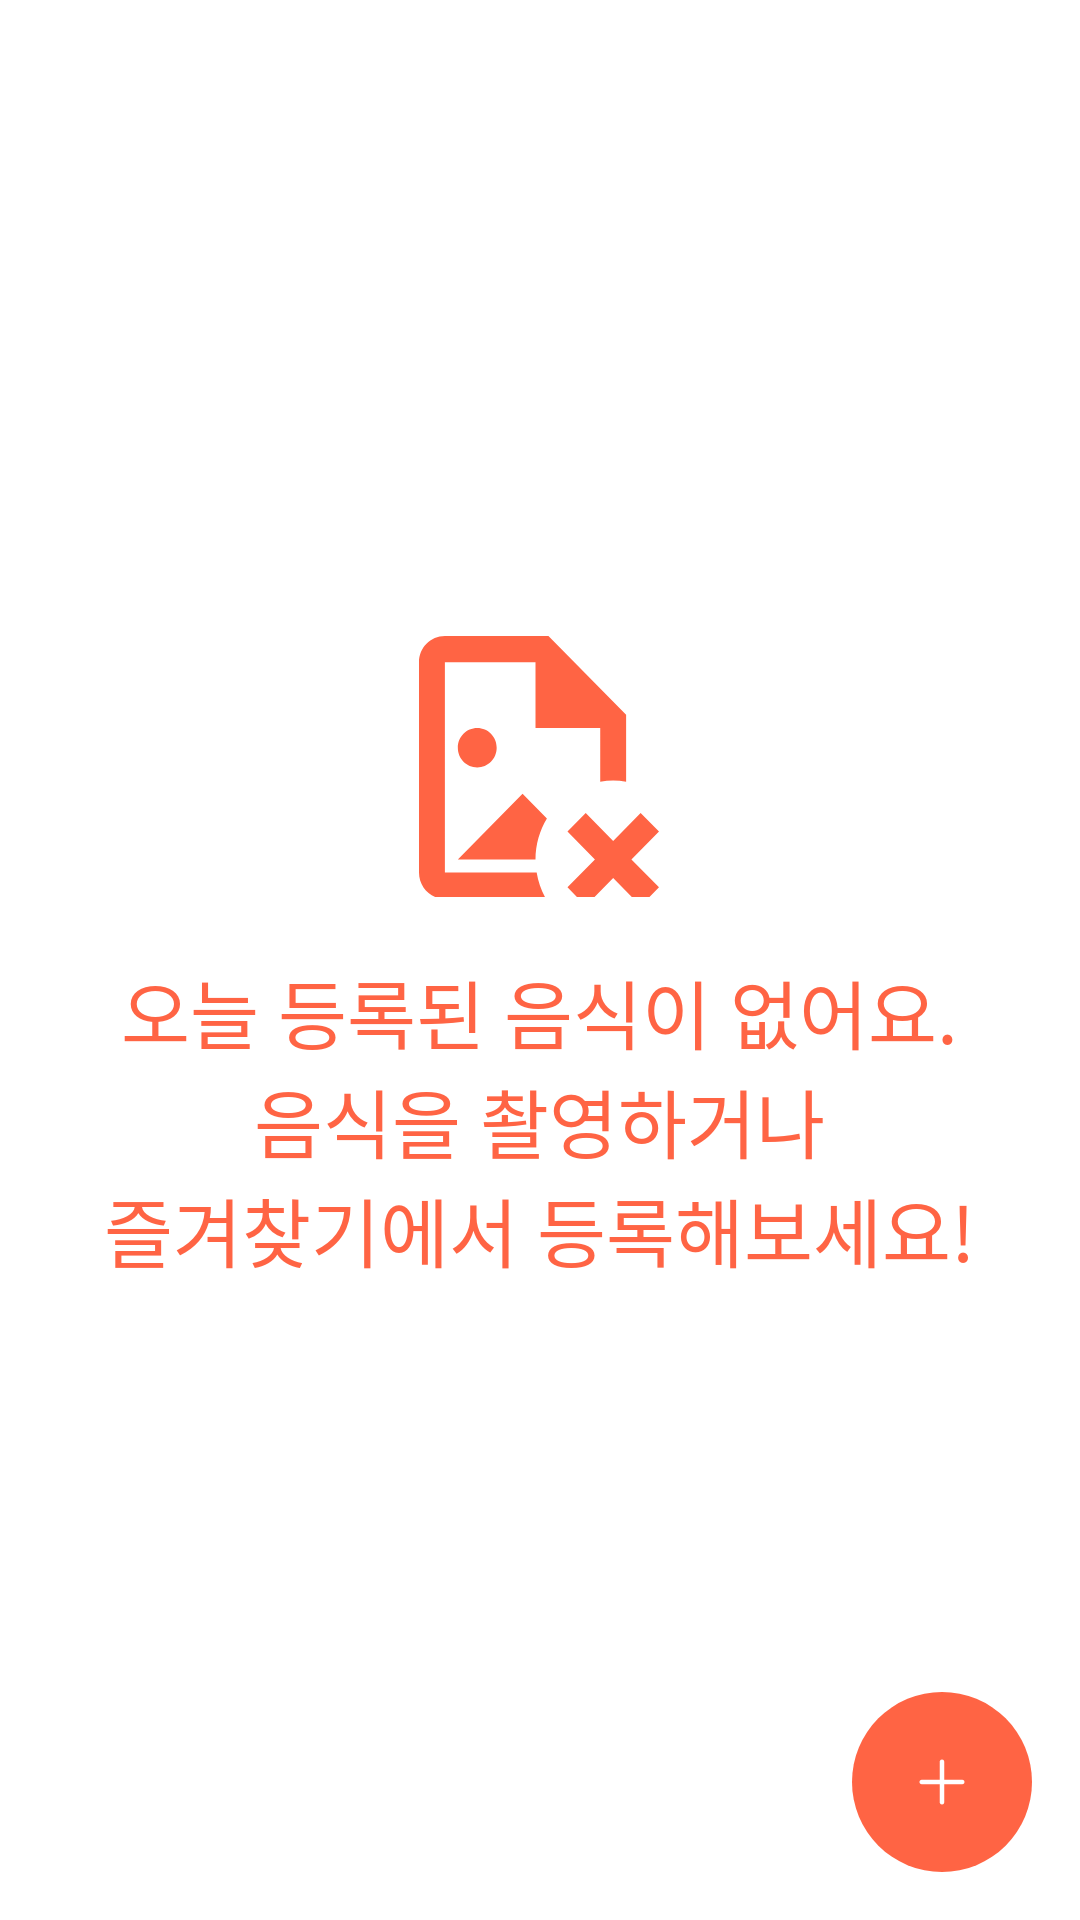

Icon bounding boxes for this 1080w x 1920h phone screenshot, format [x1,y1,x2,y2]:
add: [852,1692,1032,1872]
